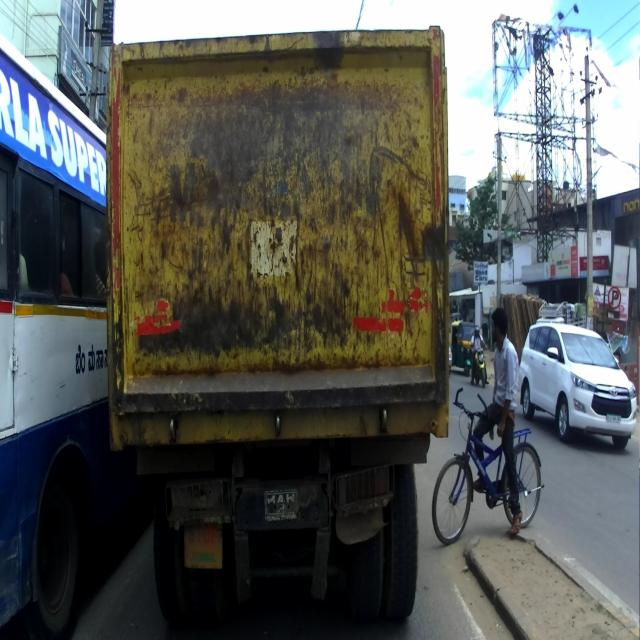Car_Toyota: (518, 318, 636, 452)
bus: (0, 36, 137, 639)
truck: (106, 25, 446, 624)
